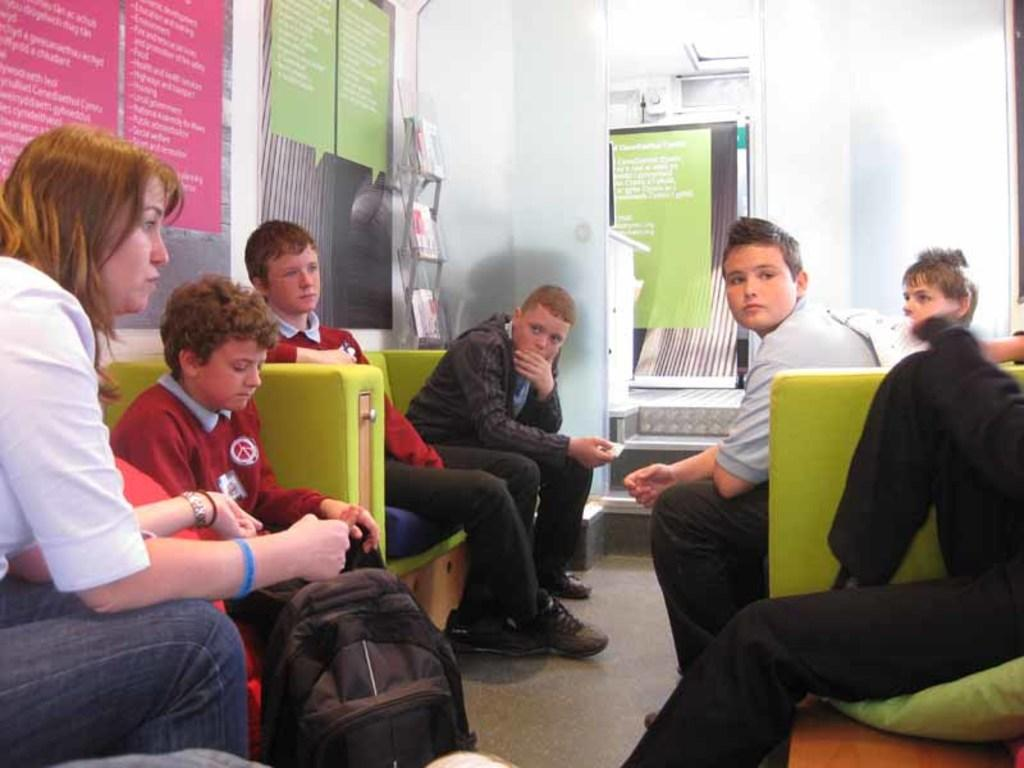Luggage-and-bags: (228, 564, 477, 756)
